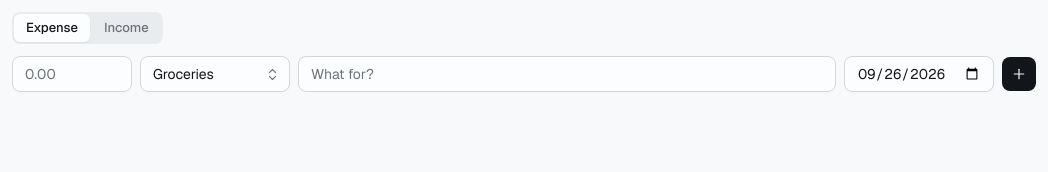
EntryForm › disables Log entry while the submit is pending, and re-enables it after
The image size is (1048, 172).
Type "10" into the field named "Amount" at coordinates (72, 74), box [12, 56, 132, 92]
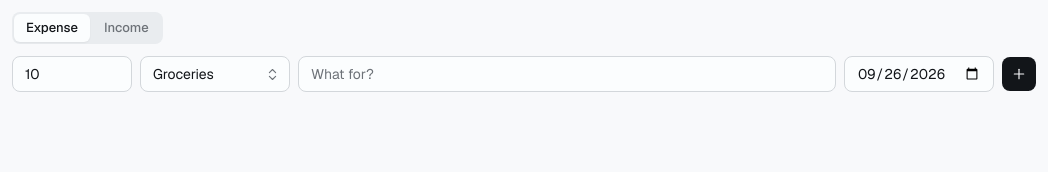
# Click submit inside act
Click the button named "Log entry" at coordinates (1019, 74), box [1002, 57, 1036, 91]
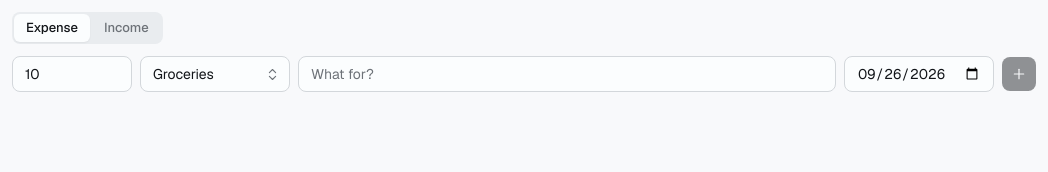
Check: the button named "Log entry" is disabled
# Second click should not call onSubmit again
Click the button named "Log entry" at coordinates (1019, 74), box [1002, 57, 1036, 91]
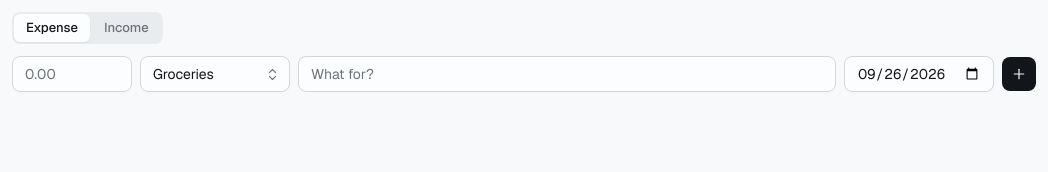
Check: the button named "Log entry" is enabled, box [1002, 57, 1036, 91]
